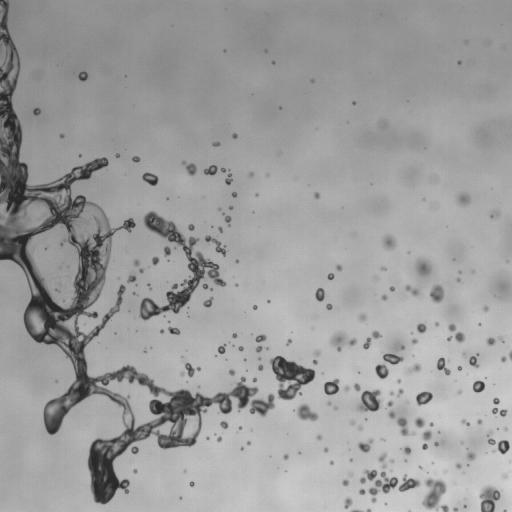droplet: (269, 355, 315, 400), (356, 389, 384, 413), (478, 485, 502, 511), (328, 331, 356, 351), (292, 403, 318, 421), (398, 473, 420, 491), (429, 284, 444, 303), (415, 258, 431, 275), (324, 378, 339, 395), (416, 391, 433, 406), (357, 437, 374, 452), (181, 160, 197, 175), (381, 234, 396, 250), (456, 192, 471, 207), (142, 172, 158, 186), (405, 284, 422, 297), (404, 362, 421, 375), (472, 379, 484, 393), (202, 165, 217, 175), (469, 353, 479, 368), (413, 416, 425, 428), (315, 288, 326, 301), (454, 331, 465, 343), (389, 388, 403, 397), (489, 208, 500, 219), (6, 23, 17, 34), (9, 94, 20, 105), (15, 113, 26, 124), (220, 134, 231, 145), (82, 152, 93, 163), (195, 160, 206, 171), (55, 167, 66, 178), (214, 171, 225, 182), (40, 174, 51, 185), (70, 181, 81, 192), (160, 210, 171, 221), (110, 216, 121, 227), (134, 218, 145, 229), (176, 223, 187, 234), (157, 235, 168, 246), (372, 238, 383, 249), (394, 239, 405, 250), (412, 249, 423, 260), (209, 251, 220, 262), (424, 252, 435, 263), (101, 279, 112, 290), (320, 279, 331, 290), (420, 284, 431, 295), (190, 289, 201, 300), (156, 295, 167, 306), (80, 323, 91, 334), (324, 326, 335, 337), (261, 351, 272, 362), (401, 356, 412, 367), (85, 366, 96, 377), (65, 372, 76, 383), (312, 375, 323, 386), (371, 376, 382, 387), (269, 379, 280, 390), (221, 382, 232, 393), (203, 387, 214, 398), (255, 389, 266, 400), (377, 392, 388, 403), (85, 393, 96, 404), (291, 395, 302, 406), (377, 404, 388, 415), (416, 404, 427, 415), (113, 424, 124, 435), (101, 429, 112, 440), (237, 430, 248, 441), (400, 435, 411, 446), (174, 444, 185, 455), (369, 444, 380, 455), (111, 458, 122, 469), (81, 470, 92, 481), (415, 471, 426, 482), (491, 478, 502, 489), (349, 479, 360, 490), (418, 484, 429, 495), (346, 486, 357, 497), (438, 493, 449, 504), (352, 495, 363, 506), (399, 445, 411, 455), (203, 296, 213, 307), (168, 326, 180, 335), (28, 107, 41, 115), (344, 496, 352, 509), (78, 71, 88, 81), (378, 119, 388, 129), (416, 323, 426, 333), (217, 343, 226, 354), (465, 451, 476, 460), (225, 173, 233, 185), (254, 334, 266, 342), (358, 312, 367, 322), (127, 273, 136, 282), (11, 103, 20, 112), (20, 134, 29, 143), (77, 157, 86, 166), (25, 177, 34, 186), (455, 185, 464, 194), (461, 185, 470, 194), (448, 195, 457, 204), (454, 203, 463, 212), (209, 228, 218, 237), (181, 230, 190, 239), (190, 244, 199, 253), (383, 248, 392, 257), (155, 249, 164, 258), (124, 282, 133, 291), (395, 283, 404, 292), (441, 292, 450, 301), (477, 311, 486, 320), (77, 313, 86, 322), (425, 322, 434, 331), (460, 358, 469, 367), (302, 360, 311, 369), (263, 363, 272, 372), (135, 365, 144, 374), (249, 367, 258, 376), (244, 378, 253, 387), (170, 383, 179, 392), (230, 396, 239, 405), (273, 396, 282, 405), (378, 399, 387, 408), (210, 402, 219, 411), (61, 414, 70, 423), (406, 420, 415, 429), (479, 423, 488, 432), (220, 428, 229, 437), (148, 433, 157, 442), (81, 449, 90, 458), (458, 455, 467, 464), (440, 474, 449, 483), (364, 479, 373, 488), (474, 484, 483, 493), (389, 486, 398, 495), (85, 490, 94, 499), (395, 343, 405, 351), (448, 323, 456, 332), (220, 420, 228, 429), (501, 471, 510, 479), (0, 54, 6, 65), (505, 339, 511, 350), (152, 256, 159, 265), (133, 258, 140, 266), (285, 338, 292, 346), (228, 368, 235, 376), (353, 383, 360, 391), (131, 446, 138, 454), (342, 478, 349, 486), (358, 487, 365, 495), (0, 81, 5, 92), (0, 201, 5, 212), (335, 264, 342, 271), (343, 384, 350, 391), (7, 3, 14, 10), (5, 20, 12, 27), (9, 33, 16, 40), (106, 154, 113, 161), (17, 155, 24, 162), (180, 167, 187, 174), (90, 170, 97, 177), (227, 184, 234, 191), (469, 194, 476, 201), (229, 197, 236, 204), (464, 203, 471, 210), (142, 207, 149, 214), (224, 208, 231, 215), (155, 209, 162, 216), (2, 211, 9, 218), (220, 221, 227, 228), (150, 230, 157, 237), (190, 230, 197, 237), (168, 240, 175, 247), (4, 258, 11, 265), (329, 266, 336, 273), (104, 269, 111, 276), (187, 270, 194, 277), (333, 270, 340, 277), (135, 272, 142, 279), (218, 272, 225, 279), (409, 280, 416, 287), (213, 283, 220, 290), (383, 288, 390, 295), (24, 295, 31, 302), (425, 295, 432, 302), (322, 296, 329, 303), (440, 296, 447, 303), (109, 299, 116, 306), (86, 305, 93, 312), (179, 305, 186, 312), (165, 309, 172, 316), (94, 317, 101, 324), (413, 330, 420, 337), (346, 332, 353, 339), (233, 338, 240, 345), (480, 339, 487, 346), (404, 340, 411, 347), (493, 340, 500, 347), (49, 342, 56, 349), (341, 344, 348, 351), (82, 346, 89, 353), (284, 354, 291, 361), (377, 357, 384, 364), (114, 363, 121, 370), (419, 366, 426, 373), (254, 370, 261, 377), (411, 370, 418, 377), (147, 372, 154, 379), (153, 379, 160, 386), (181, 383, 188, 390), (299, 384, 306, 391), (423, 385, 430, 392), (60, 386, 67, 393), (101, 394, 108, 401), (247, 394, 254, 401), (390, 394, 397, 401), (81, 397, 88, 404), (244, 402, 251, 409), (496, 402, 503, 409), (308, 405, 315, 412), (265, 408, 272, 415), (394, 411, 401, 418), (221, 413, 228, 420), (294, 416, 301, 423), (304, 417, 311, 424), (390, 417, 397, 424), (469, 418, 476, 425), (422, 423, 429, 430), (39, 424, 46, 431), (394, 424, 401, 431), (429, 426, 436, 433), (430, 433, 437, 440), (360, 436, 367, 443), (426, 439, 433, 446), (318, 440, 325, 447), (167, 446, 174, 453), (470, 446, 477, 453), (398, 450, 405, 457), (325, 452, 332, 459), (406, 453, 413, 460), (474, 453, 481, 460), (385, 471, 392, 478), (374, 473, 381, 480), (116, 474, 123, 481), (431, 474, 438, 481), (396, 478, 403, 485), (444, 482, 451, 489), (115, 487, 122, 494), (376, 489, 383, 496), (364, 491, 371, 498), (368, 502, 375, 509), (132, 156, 140, 162), (257, 364, 263, 372), (493, 397, 499, 405), (506, 408, 511, 417), (314, 192, 320, 199), (188, 224, 194, 231), (327, 273, 334, 279), (326, 303, 332, 310), (482, 305, 489, 311), (411, 338, 418, 344), (455, 389, 462, 395), (357, 424, 363, 431), (316, 434, 322, 441), (283, 453, 289, 460), (455, 462, 461, 469), (212, 141, 220, 146), (373, 275, 379, 281), (381, 294, 387, 300), (446, 335, 452, 341), (500, 356, 506, 362), (387, 400, 393, 406), (349, 419, 355, 425), (6, 0, 15, 4), (380, 266, 387, 271), (217, 435, 222, 442), (0, 218, 5, 225), (462, 350, 466, 358), (59, 133, 65, 138), (232, 133, 237, 139), (248, 172, 254, 177), (231, 192, 237, 197), (389, 286, 395, 291), (132, 291, 138, 296), (252, 304, 257, 310), (232, 332, 237, 338), (252, 376, 257, 382), (396, 378, 401, 384), (476, 419, 482, 424), (189, 481, 194, 487), (218, 226, 222, 233), (507, 423, 511, 430), (507, 472, 511, 479), (428, 507, 435, 511), (457, 507, 464, 511), (493, 507, 500, 511), (254, 192, 259, 197), (228, 205, 233, 210), (139, 268, 144, 273), (434, 321, 439, 326), (238, 346, 243, 351), (457, 365, 462, 370), (333, 405, 338, 410), (503, 426, 508, 431), (246, 440, 251, 445), (323, 447, 328, 452), (329, 460, 334, 465), (348, 472, 353, 477), (6, 12, 11, 17), (14, 43, 19, 48), (19, 60, 24, 65), (18, 70, 23, 75), (86, 70, 91, 75), (16, 78, 21, 83), (84, 78, 89, 83), (77, 79, 82, 84), (15, 81, 20, 86), (39, 106, 44, 111), (36, 113, 41, 118), (32, 114, 37, 119), (227, 134, 232, 139), (212, 137, 217, 142), (230, 137, 235, 142), (233, 137, 238, 142), (214, 145, 219, 150), (134, 151, 139, 156), (97, 153, 102, 158), (185, 159, 190, 164), (71, 162, 76, 167), (204, 163, 209, 168), (100, 166, 105, 171), (26, 167, 31, 172), (65, 168, 70, 173), (141, 168, 146, 173), (150, 169, 155, 174), (215, 169, 220, 174), (188, 174, 193, 179), (137, 175, 142, 180), (80, 178, 85, 183), (156, 179, 161, 184), (144, 181, 149, 186), (314, 187, 319, 192), (79, 190, 84, 195), (309, 192, 314, 197), (318, 192, 323, 197), (70, 194, 75, 199), (85, 196, 90, 201), (314, 198, 319, 203), (2, 201, 7, 206), (97, 201, 102, 206), (105, 212, 110, 217), (123, 215, 128, 220), (229, 219, 234, 224), (118, 220, 123, 225), (120, 227, 125, 232), (210, 233, 215, 238), (110, 234, 115, 239), (216, 236, 221, 241), (211, 242, 216, 247), (177, 244, 182, 249), (180, 250, 185, 255), (217, 251, 222, 256), (190, 252, 195, 257), (166, 254, 171, 259), (202, 254, 207, 259), (147, 258, 152, 263), (128, 259, 133, 264), (184, 259, 189, 264), (336, 259, 341, 264), (156, 261, 161, 266), (340, 262, 345, 267), (138, 263, 143, 268), (454, 272, 459, 277), (458, 273, 463, 278), (198, 278, 203, 283), (122, 281, 127, 286), (389, 281, 394, 286), (319, 283, 324, 288), (114, 285, 119, 290), (166, 286, 171, 291), (177, 286, 182, 291), (311, 288, 316, 293), (323, 289, 328, 294), (406, 290, 411, 295), (113, 293, 118, 298), (120, 293, 125, 298), (376, 294, 381, 299), (97, 295, 102, 300), (312, 297, 317, 302), (136, 299, 141, 304), (380, 299, 385, 304), (185, 300, 190, 305), (135, 302, 140, 307), (118, 303, 123, 308), (478, 303, 483, 308), (479, 309, 484, 314), (160, 310, 165, 315), (485, 310, 490, 315), (18, 314, 23, 319), (151, 314, 156, 319), (138, 317, 143, 322), (418, 318, 423, 323), (447, 319, 452, 324), (105, 320, 110, 325), (169, 322, 174, 327), (20, 323, 25, 328), (78, 326, 83, 331), (412, 327, 417, 332), (424, 328, 429, 333), (98, 329, 103, 334), (164, 329, 169, 334), (378, 329, 383, 334), (23, 330, 28, 335), (256, 330, 261, 335), (450, 331, 455, 336), (367, 332, 372, 337), (171, 333, 176, 338), (287, 333, 292, 338), (490, 333, 495, 338), (409, 334, 414, 339), (92, 335, 97, 340), (450, 336, 455, 341), (230, 337, 235, 342), (282, 337, 287, 342), (370, 337, 375, 342), (30, 338, 35, 343), (361, 338, 366, 343), (258, 340, 263, 345), (39, 341, 44, 346), (413, 342, 418, 347), (350, 344, 355, 349), (488, 344, 493, 349), (224, 345, 229, 350), (233, 345, 238, 350), (331, 346, 336, 351), (260, 348, 265, 353), (60, 351, 65, 356), (395, 351, 400, 356), (270, 353, 275, 358), (504, 353, 509, 358), (314, 355, 319, 360), (464, 357, 469, 362), (496, 358, 501, 363), (255, 360, 260, 365), (397, 360, 402, 365), (128, 361, 133, 366), (384, 361, 389, 366), (432, 361, 437, 366), (500, 361, 505, 366), (191, 363, 196, 368), (444, 363, 449, 368), (468, 364, 473, 369), (231, 365, 236, 370), (439, 368, 444, 373), (193, 369, 198, 374), (371, 369, 376, 374), (241, 371, 246, 376), (271, 372, 276, 377), (313, 372, 318, 377), (374, 374, 379, 379), (383, 376, 388, 381), (472, 376, 477, 381), (479, 376, 484, 381), (235, 377, 240, 382), (328, 377, 333, 382), (356, 379, 361, 384), (307, 380, 312, 385), (336, 381, 341, 386), (468, 381, 473, 386), (231, 383, 236, 388), (397, 383, 402, 388), (483, 384, 488, 389), (319, 385, 324, 390), (349, 385, 354, 390), (359, 387, 364, 392), (368, 387, 373, 392), (468, 387, 473, 392), (393, 388, 398, 393), (417, 388, 422, 393), (336, 389, 341, 394), (480, 389, 485, 394), (190, 392, 195, 397), (273, 392, 278, 397), (294, 392, 299, 397), (400, 392, 405, 397), (330, 393, 335, 398), (387, 395, 392, 400), (411, 397, 416, 402), (357, 398, 362, 403), (426, 400, 431, 405), (112, 401, 117, 406), (490, 403, 495, 408), (328, 404, 333, 409), (39, 405, 44, 410), (118, 405, 123, 410), (387, 405, 392, 410), (366, 409, 371, 414), (374, 409, 379, 414), (253, 410, 258, 415), (38, 413, 43, 418), (478, 414, 483, 419), (457, 415, 462, 420), (481, 418, 486, 423), (227, 422, 232, 427), (200, 423, 205, 428), (461, 423, 466, 428), (478, 423, 483, 428), (217, 425, 222, 430), (311, 432, 316, 437), (321, 434, 326, 439), (502, 435, 507, 440), (90, 436, 95, 441), (195, 436, 200, 441), (420, 438, 425, 443), (494, 438, 499, 443), (130, 441, 135, 446), (241, 441, 246, 446), (191, 443, 196, 448), (408, 443, 413, 448), (493, 443, 498, 448), (243, 444, 248, 449), (126, 445, 131, 450), (157, 446, 162, 451), (423, 448, 428, 453), (281, 449, 286, 454), (358, 449, 363, 454), (463, 449, 468, 454), (495, 449, 500, 454), (403, 453, 408, 458), (278, 454, 283, 459), (383, 457, 388, 462), (468, 459, 473, 464), (386, 462, 391, 467), (450, 463, 455, 468), (461, 464, 466, 469), (367, 466, 372, 471), (383, 467, 388, 472), (502, 467, 507, 472), (376, 468, 381, 473), (346, 476, 351, 481), (128, 479, 133, 484), (337, 479, 342, 484), (126, 484, 131, 489), (342, 485, 347, 490), (407, 487, 412, 492), (358, 493, 363, 498), (477, 497, 482, 502), (340, 500, 345, 505), (96, 501, 101, 506), (347, 505, 352, 510), (361, 505, 366, 510), (143, 347, 147, 353), (0, 4, 3, 11), (457, 60, 461, 65), (217, 207, 222, 211), (456, 277, 460, 282), (160, 329, 164, 334), (257, 356, 261, 361), (326, 401, 331, 405), (238, 425, 242, 430), (434, 441, 438, 446), (389, 467, 393, 472), (133, 468, 137, 473), (443, 469, 448, 473), (453, 507, 458, 511), (271, 60, 275, 64), (310, 79, 314, 83), (352, 101, 356, 105), (115, 153, 119, 157), (235, 259, 239, 263), (458, 270, 462, 274), (234, 283, 238, 287), (54, 379, 58, 383), (429, 422, 433, 426), (240, 446, 244, 450), (349, 458, 353, 462), (507, 507, 511, 511), (470, 270, 475, 273), (508, 442, 511, 447), (344, 508, 349, 511), (438, 508, 443, 511), (447, 508, 452, 511), (476, 508, 481, 511), (278, 106, 282, 109), (78, 153, 81, 157), (266, 173, 269, 177), (267, 299, 270, 303), (166, 320, 170, 323), (478, 322, 481, 326), (406, 400, 409, 404), (437, 430, 440, 434), (206, 436, 209, 440), (460, 440, 463, 444), (404, 458, 407, 462), (183, 469, 186, 473), (463, 504, 466, 508), (502, 509, 507, 511), (0, 15, 2, 20), (223, 49, 226, 52), (264, 49, 267, 52), (166, 197, 169, 200), (407, 251, 410, 254), (452, 258, 455, 261), (410, 331, 413, 334), (214, 354, 217, 357), (243, 358, 246, 361), (197, 385, 200, 388), (364, 417, 367, 420), (298, 451, 301, 454), (431, 461, 434, 464), (179, 496, 182, 499), (384, 502, 387, 505), (268, 60, 271, 63), (274, 60, 277, 63), (454, 60, 457, 63), (460, 61, 463, 64), (270, 63, 273, 66), (80, 68, 83, 71), (83, 68, 86, 71), (76, 71, 79, 74), (349, 102, 352, 105), (354, 103, 357, 106), (32, 105, 35, 108), (281, 105, 284, 108), (275, 106, 278, 109), (30, 111, 33, 114), (59, 130, 62, 133), (235, 131, 238, 134), (56, 134, 59, 137), (60, 137, 63, 140), (112, 151, 115, 154), (118, 151, 121, 154), (75, 153, 78, 156), (119, 154, 122, 157), (116, 157, 119, 160), (107, 159, 110, 162), (178, 159, 181, 162), (134, 161, 137, 164), (213, 162, 216, 165), (225, 170, 228, 173), (207, 173, 210, 176), (230, 181, 233, 184), (223, 182, 226, 185), (254, 189, 257, 192), (258, 192, 261, 195), (236, 193, 239, 196), (251, 193, 254, 196), (163, 195, 166, 198), (229, 195, 232, 198), (168, 196, 171, 199), (233, 196, 236, 199), (255, 196, 258, 199), (166, 199, 169, 202), (220, 209, 223, 212), (487, 212, 490, 215), (222, 214, 225, 217), (487, 216, 490, 219), (491, 217, 494, 220), (187, 221, 190, 224), (210, 222, 213, 225), (193, 226, 196, 229), (115, 229, 118, 232), (216, 229, 219, 232), (219, 244, 222, 247), (110, 246, 113, 249), (224, 247, 227, 250), (224, 251, 227, 254), (455, 257, 458, 260), (232, 258, 235, 261), (238, 259, 241, 262), (212, 260, 215, 263), (384, 264, 387, 267), (458, 267, 461, 270), (142, 269, 145, 272), (381, 269, 384, 272), (324, 275, 327, 278), (331, 278, 334, 281), (460, 278, 463, 281), (328, 279, 331, 282), (133, 280, 136, 283), (145, 280, 148, 283), (173, 280, 176, 283), (235, 280, 238, 283), (456, 281, 459, 284), (149, 284, 152, 287), (145, 285, 148, 288), (233, 285, 236, 288), (394, 287, 397, 290), (391, 290, 394, 293), (267, 296, 270, 299), (211, 299, 214, 302), (264, 301, 267, 304), (255, 302, 258, 305), (250, 303, 253, 306), (486, 303, 489, 306), (331, 305, 334, 308), (205, 306, 208, 309), (256, 306, 259, 309), (250, 307, 253, 310), (253, 309, 256, 312), (327, 309, 330, 312), (475, 321, 478, 324), (480, 321, 483, 324), (436, 325, 439, 328), (477, 325, 480, 328), (157, 327, 160, 330), (178, 328, 181, 331), (232, 330, 235, 333), (116, 331, 119, 334), (229, 332, 232, 335), (236, 332, 239, 335), (113, 334, 116, 337), (290, 337, 293, 340), (502, 337, 505, 340), (444, 339, 447, 342), (224, 340, 227, 343), (220, 342, 223, 345), (242, 344, 245, 347), (141, 347, 144, 350), (146, 347, 149, 350), (361, 347, 364, 350), (242, 348, 245, 351), (238, 350, 241, 353), (337, 351, 340, 354), (478, 351, 481, 354), (142, 352, 145, 355), (217, 352, 220, 355), (222, 352, 225, 355), (473, 353, 476, 356), (439, 354, 442, 357), (240, 359, 243, 362), (245, 359, 248, 362), (475, 360, 478, 363), (466, 361, 469, 364), (123, 363, 126, 366), (393, 363, 396, 366), (200, 367, 203, 370), (358, 368, 361, 371), (225, 369, 228, 372), (456, 369, 459, 372), (459, 369, 462, 372), (227, 373, 230, 376), (356, 373, 359, 376), (256, 377, 259, 380), (323, 392, 326, 395), (460, 392, 463, 395), (498, 397, 501, 400), (420, 403, 423, 406), (335, 409, 338, 412), (489, 411, 492, 414), (505, 411, 508, 414), (119, 417, 122, 420), (465, 418, 468, 421), (362, 419, 365, 422), (217, 420, 220, 423), (432, 421, 435, 424), (354, 423, 357, 426), (241, 425, 244, 428), (498, 426, 501, 429), (235, 427, 238, 430), (238, 429, 241, 432), (215, 434, 218, 437), (380, 434, 383, 437), (383, 435, 386, 438), (488, 435, 491, 438), (221, 436, 224, 439), (248, 438, 251, 441), (205, 439, 208, 442), (436, 439, 439, 442), (380, 440, 383, 443), (250, 441, 253, 444), (419, 444, 422, 447), (465, 444, 468, 447), (436, 445, 439, 448), (237, 446, 240, 449), (320, 447, 323, 450), (299, 448, 302, 451), (295, 449, 298, 452), (327, 449, 330, 452), (410, 449, 413, 452), (136, 451, 139, 454), (296, 453, 299, 456), (299, 453, 302, 456), (287, 456, 290, 459), (346, 457, 349, 460), (352, 458, 355, 461), (326, 460, 329, 463), (333, 460, 336, 463), (428, 460, 431, 463), (348, 461, 351, 464), (403, 461, 406, 464), (420, 463, 423, 466), (432, 463, 435, 466), (330, 464, 333, 467), (133, 465, 136, 468), (130, 467, 133, 470), (417, 467, 420, 470), (136, 468, 139, 471), (180, 468, 183, 471), (188, 478, 191, 481), (191, 478, 194, 481), (186, 482, 189, 485), (193, 482, 196, 485), (497, 488, 500, 491), (499, 491, 502, 494), (181, 496, 184, 499), (176, 497, 179, 500), (463, 501, 466, 504), (382, 504, 385, 507), (454, 504, 457, 507), (466, 504, 469, 507), (509, 459, 511, 463), (422, 198, 425, 200), (135, 283, 137, 286), (232, 344, 234, 347), (357, 371, 360, 373), (321, 372, 324, 374), (186, 380, 188, 383), (250, 428, 252, 431), (466, 464, 469, 466), (408, 509, 411, 511), (506, 509, 509, 511), (124, 75, 126, 77), (252, 211, 254, 213), (211, 225, 213, 227), (117, 277, 119, 279), (166, 281, 168, 283), (187, 306, 189, 308), (163, 315, 165, 317), (114, 332, 116, 334), (412, 354, 414, 356), (225, 358, 227, 360), (245, 369, 247, 371), (214, 433, 216, 435), (348, 448, 350, 450), (466, 448, 468, 450), (285, 470, 287, 472), (188, 315, 189, 317), (291, 331, 292, 333), (251, 333, 252, 335), (455, 379, 456, 381), (236, 431, 237, 433), (129, 310, 130, 311), (485, 452, 486, 453)
ligament: (388, 410, 416, 436), (204, 235, 228, 257), (362, 330, 382, 349), (421, 429, 431, 450), (485, 336, 505, 345), (491, 407, 507, 417), (221, 212, 231, 227), (312, 349, 321, 365), (163, 245, 171, 261), (202, 282, 213, 291), (460, 419, 470, 427), (349, 508, 372, 511), (220, 167, 230, 172), (146, 283, 152, 290), (508, 350, 511, 361), (44, 245, 49, 250), (418, 465, 423, 470), (380, 438, 386, 441), (228, 341, 231, 343)
